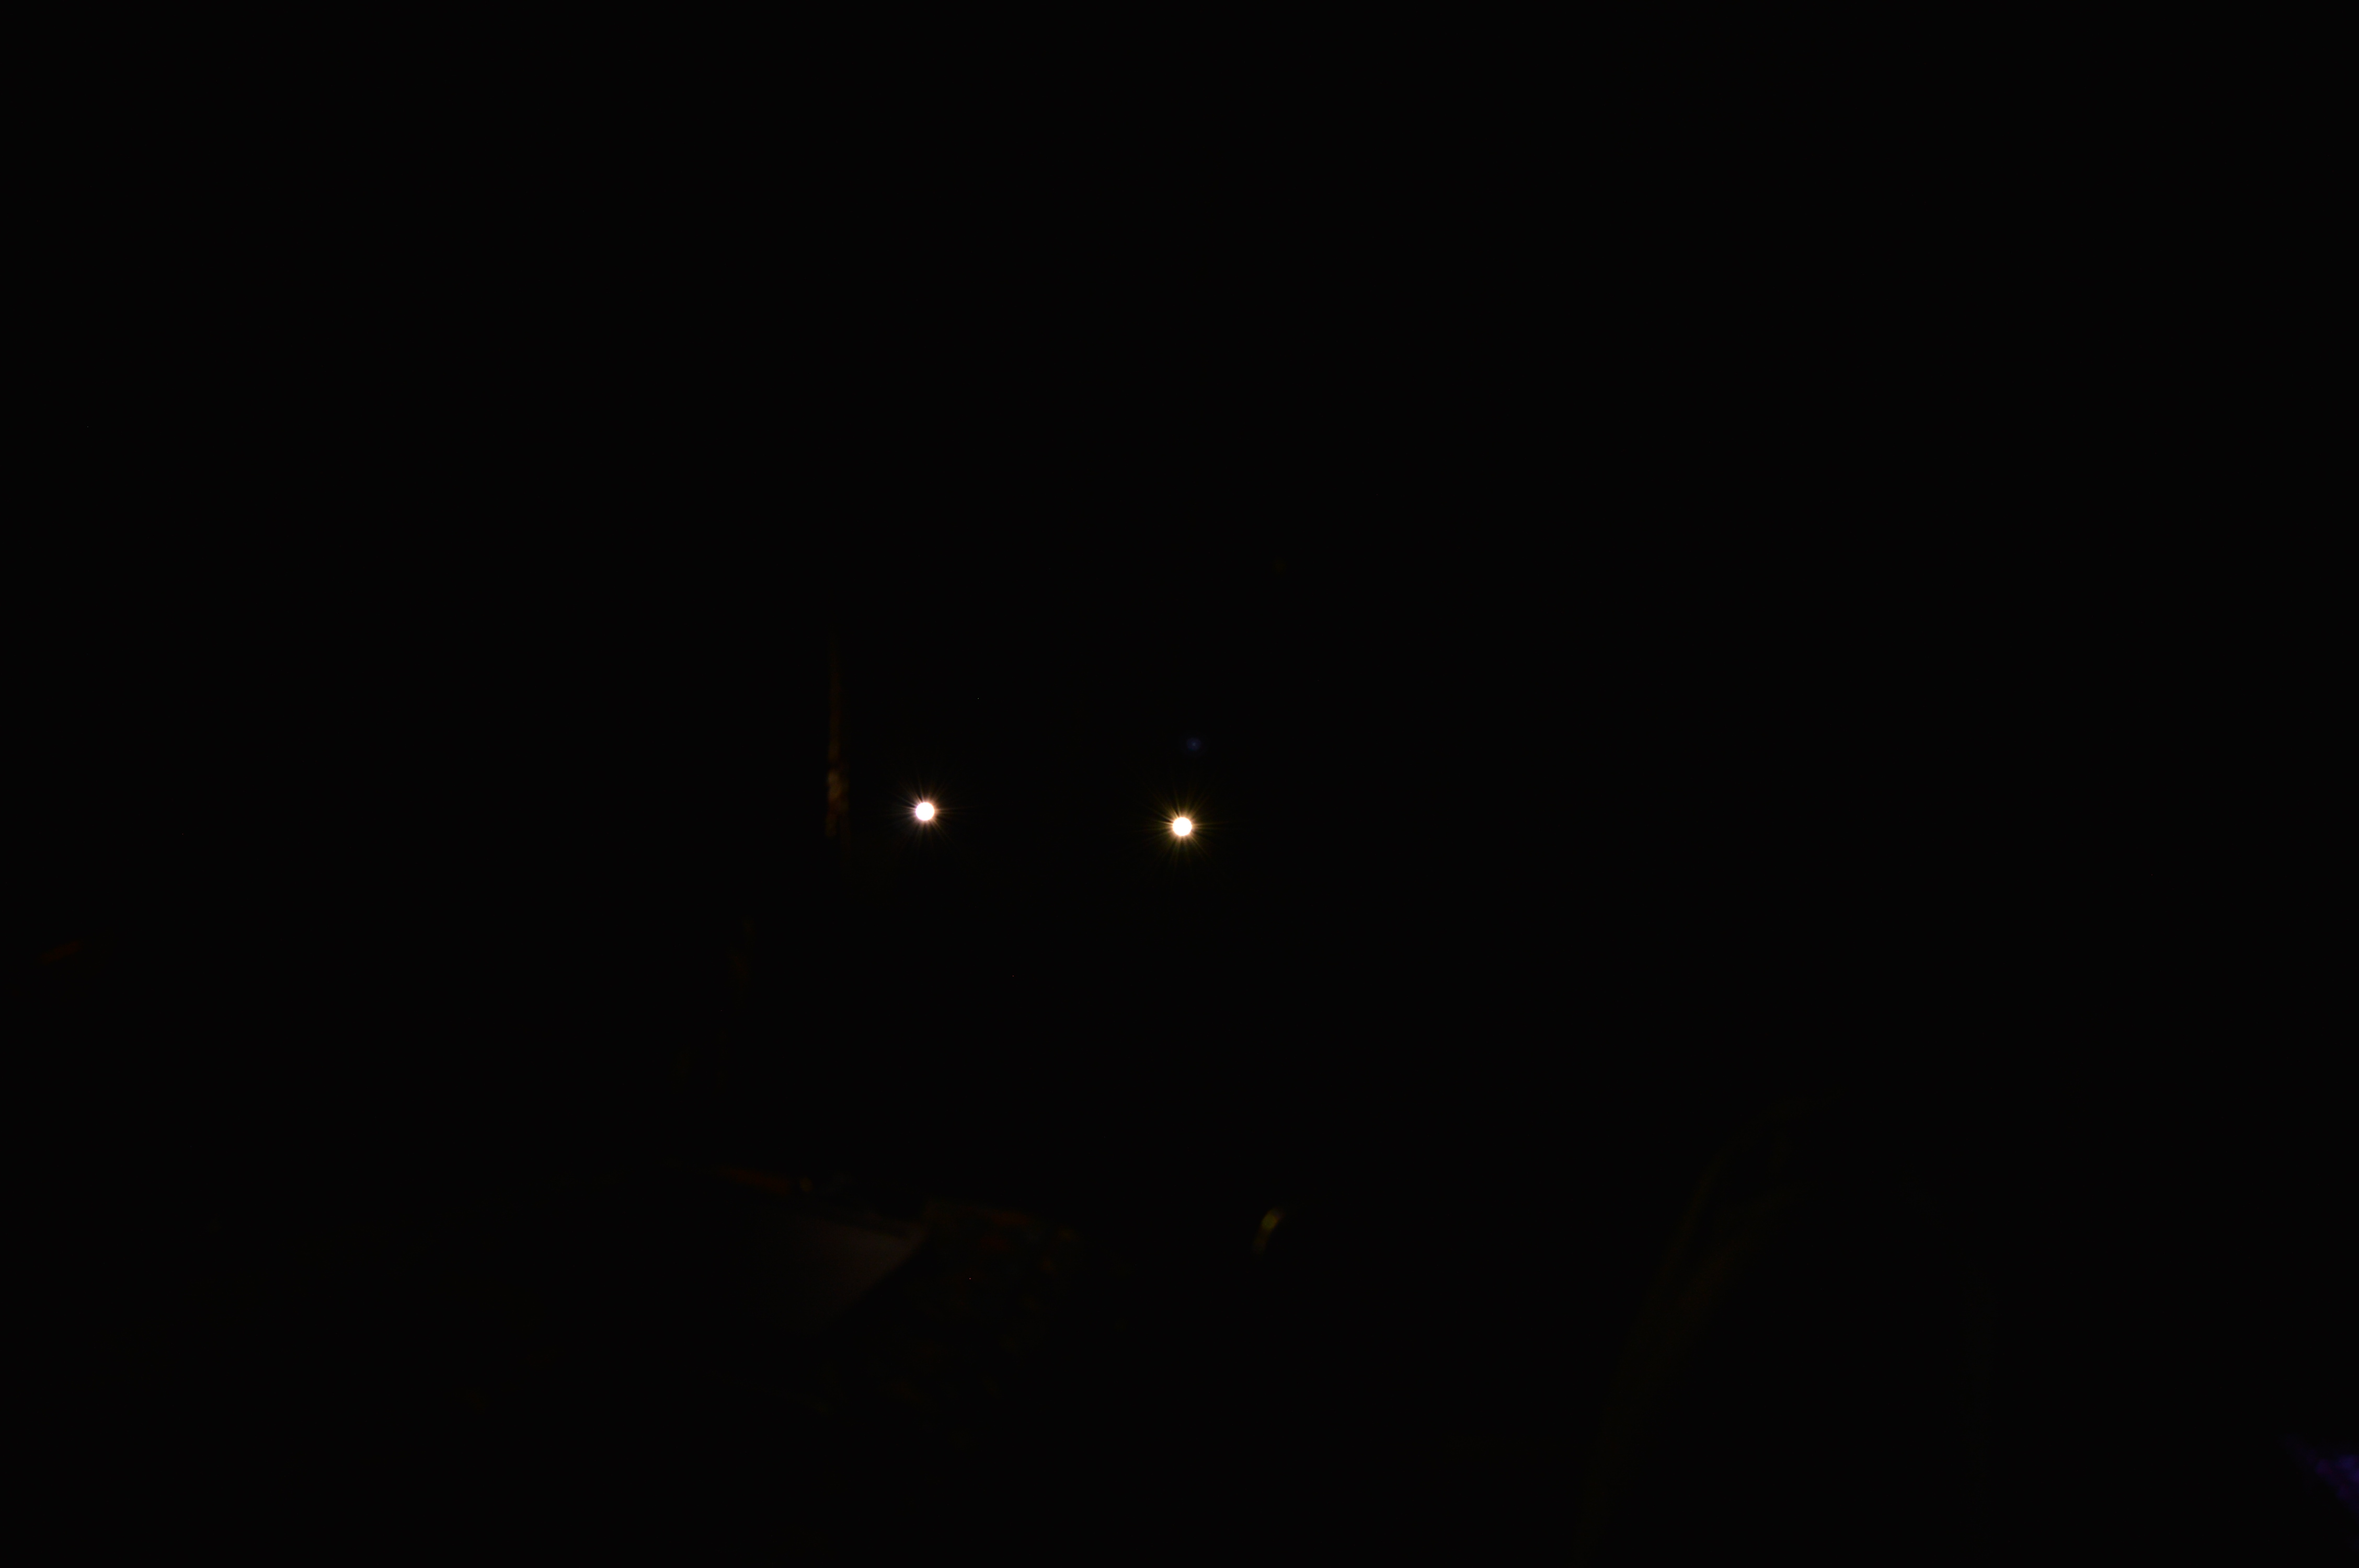Glare: (908, 798, 938, 826), (1176, 817, 1200, 836)
